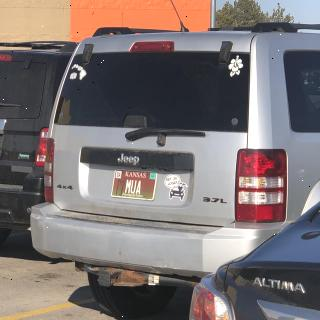license: (111, 169, 159, 202)
